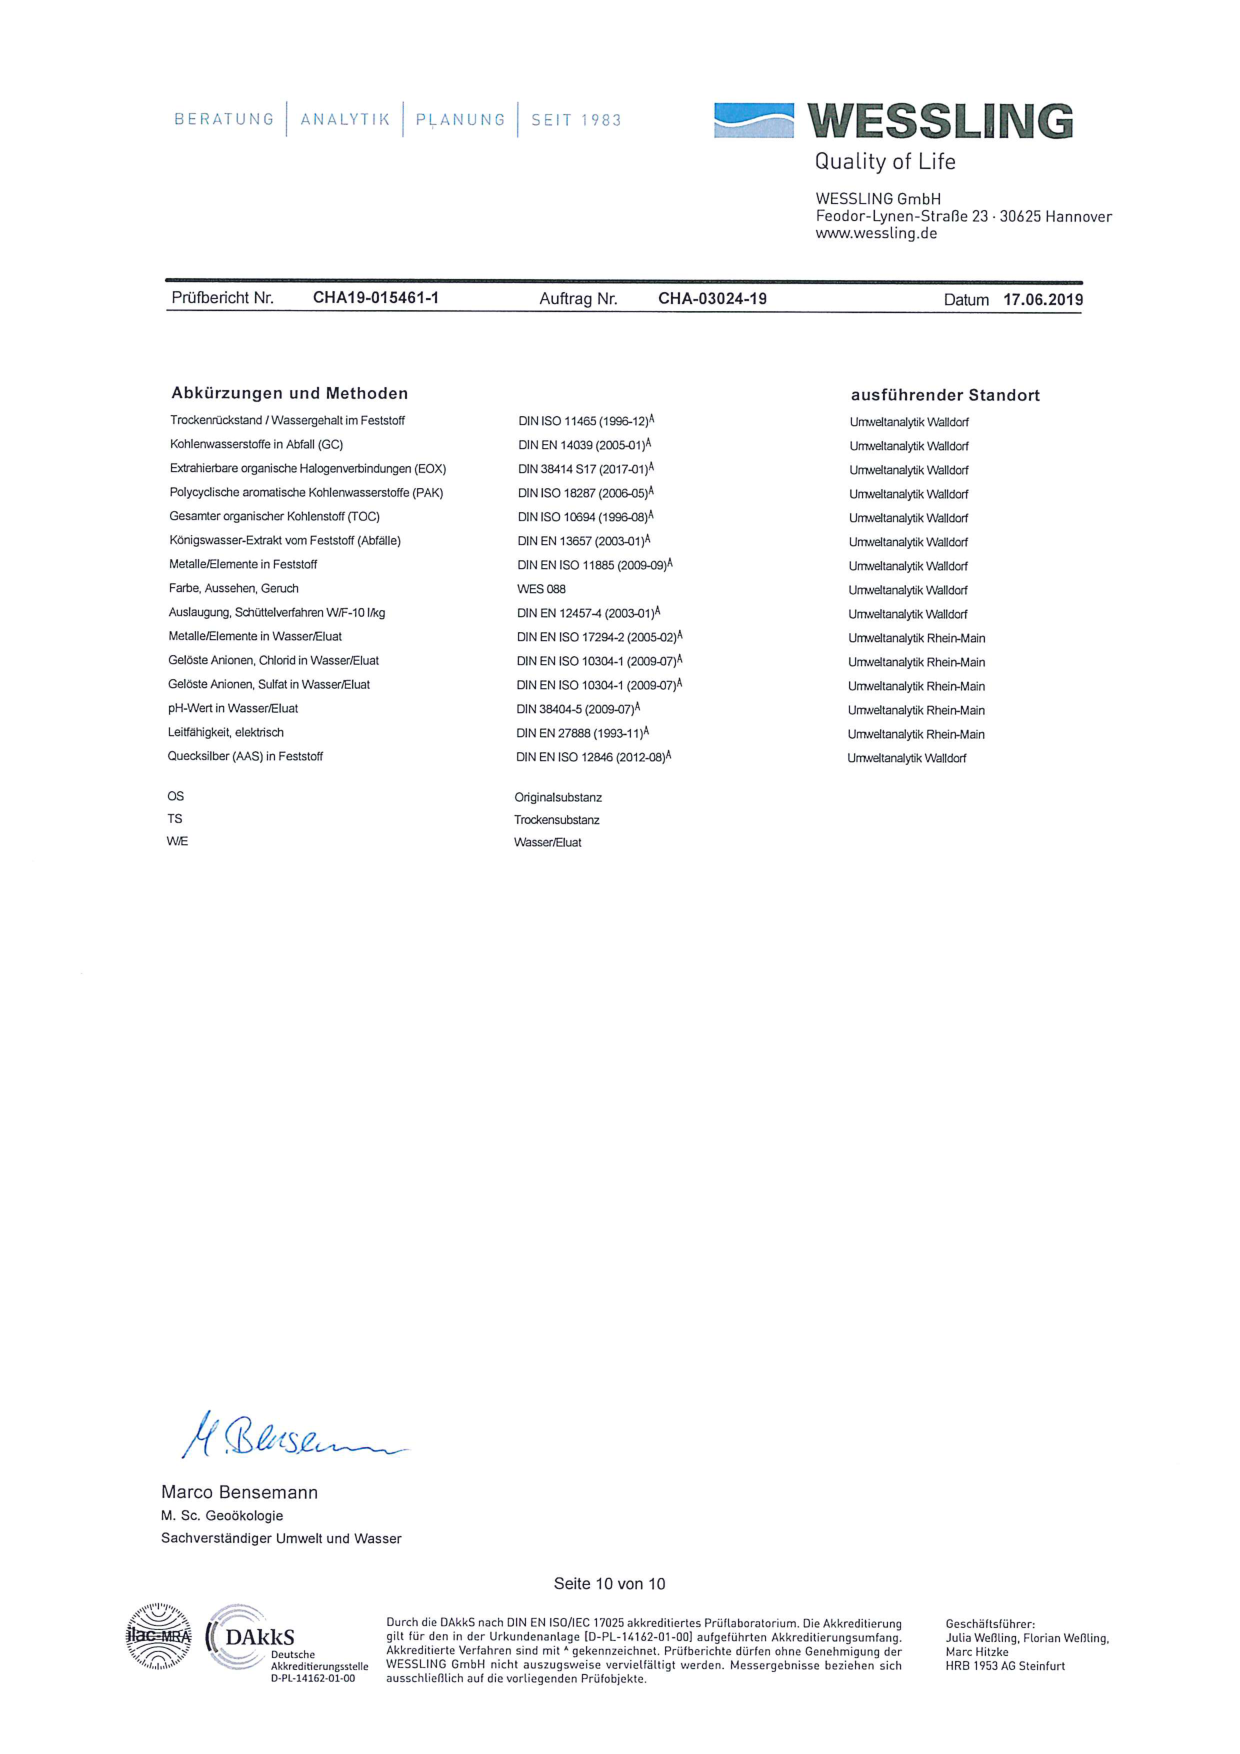table: (142, 366, 1104, 870)
